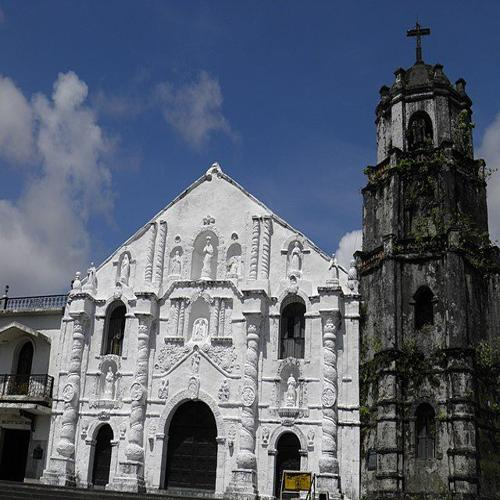Daraga Church: (58, 20, 500, 500)
